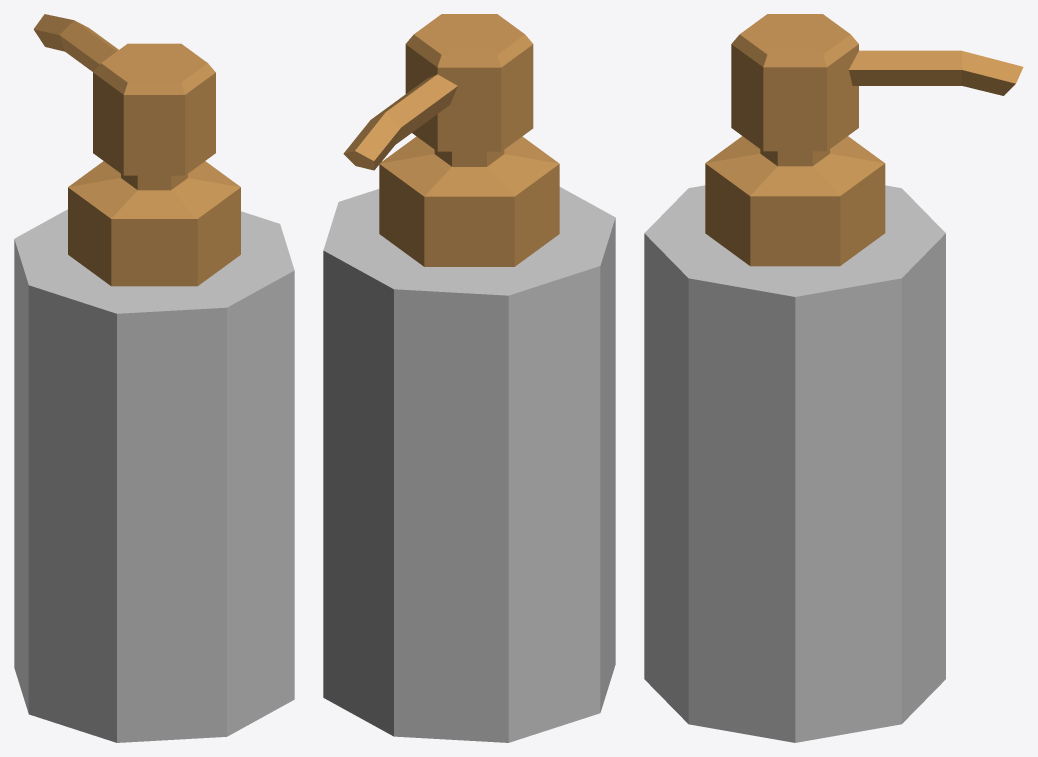
File: SM_Item_Soap_02.fbx
3 views of the same model, side by side, from view 1: azimuth 30°, elevation 25°; view 2: azimuth 150°, elevation 25°; view 3: azimuth 270°, elevation 25° (orthographic). The views are drawn at different scales.
Parts seen in each view (by area): view 1: SM_Item_Soap_02; view 2: SM_Item_Soap_02; view 3: SM_Item_Soap_02.
Boxes of the visible parts, x1,y1,x2,y2 form: SM_Item_Soap_02: (14, 14, 294, 742); SM_Item_Soap_02: (323, 14, 615, 742); SM_Item_Soap_02: (644, 14, 1023, 742).
Size of the model in its own units: 11.83 by 27.91 by 14.87.
